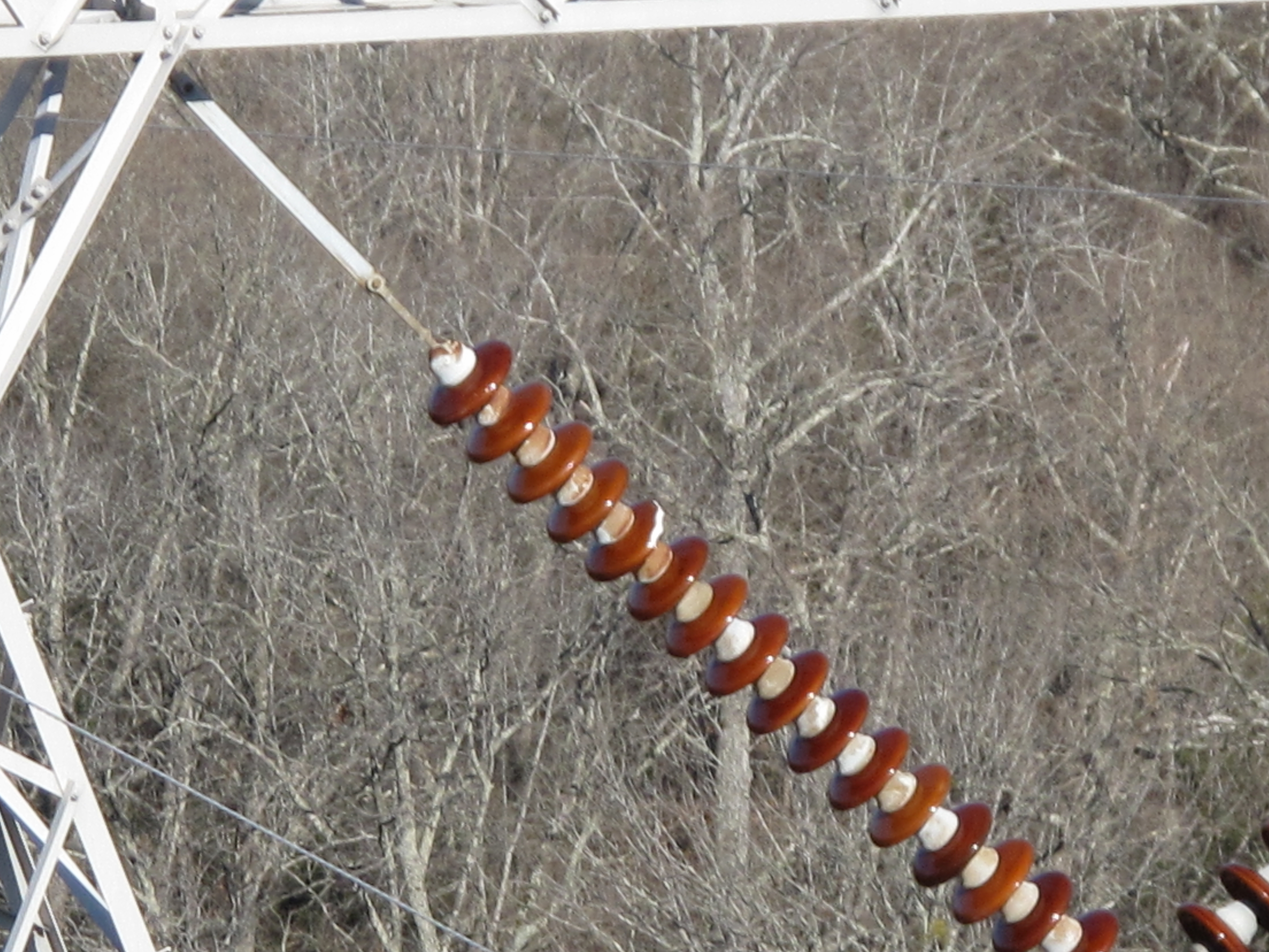damaged: (636, 498, 670, 556)
insulator: (424, 339, 1123, 952), (1175, 841, 1269, 952)
